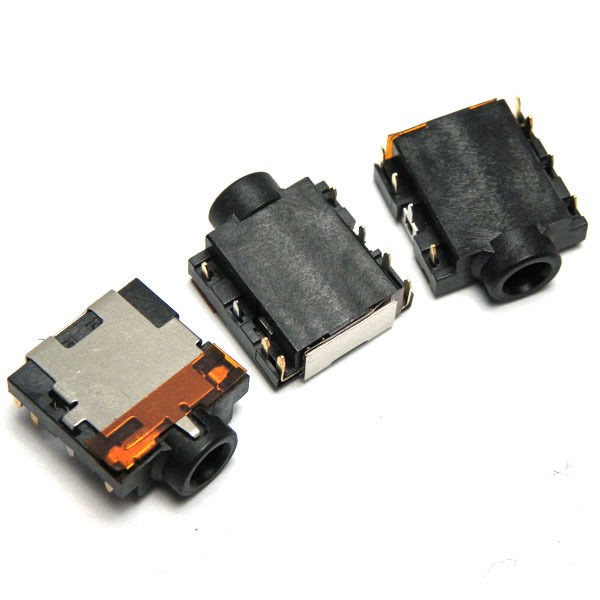aud: (182, 165, 417, 387), (4, 286, 245, 501), (367, 99, 589, 306)
